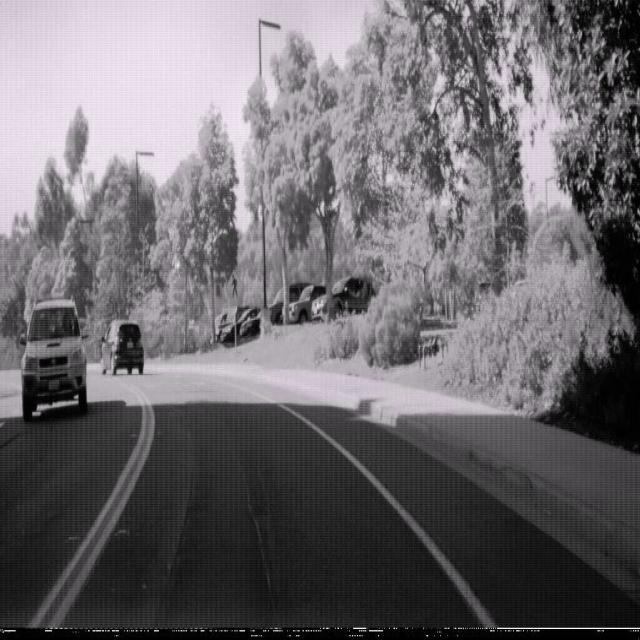pedestrianCrossing: (224, 266, 244, 307)
